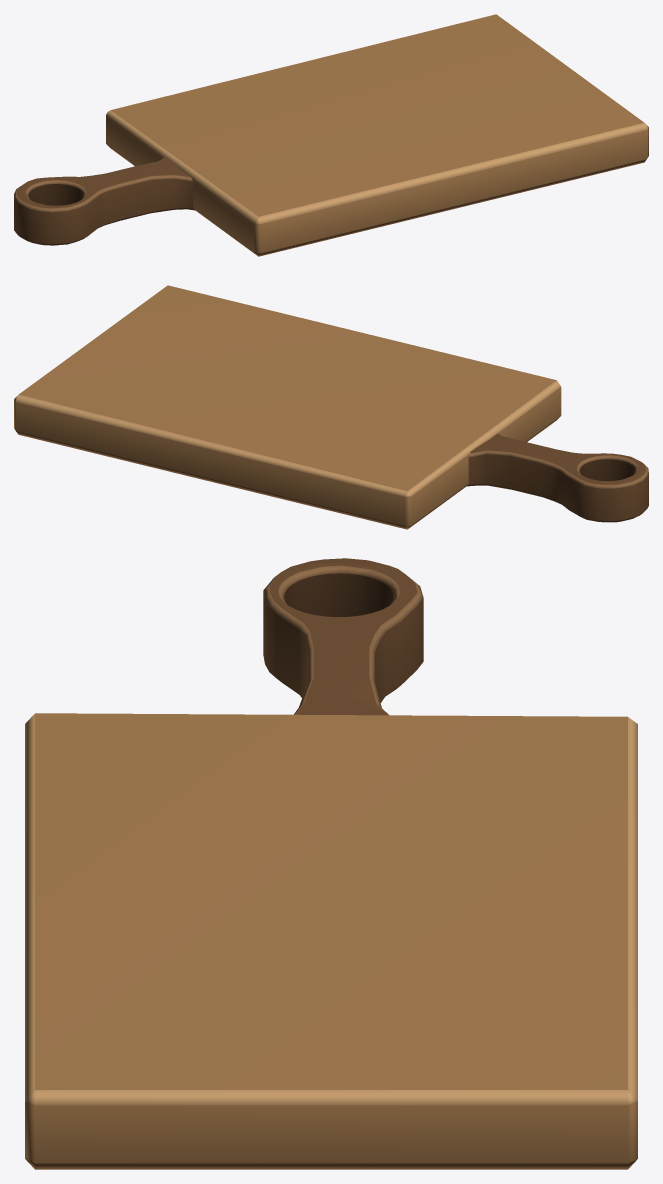
File: UD_SFK_Cutting_Board.fbx
3 views of the same model, one above another, from view 1: azimuth 30°, elevation 25°; view 2: azimuth 150°, elevation 25°; view 3: azimuth 270°, elevation 25° (orthographic). The views are drawn at different scales.
Parts seen in each view (by area): view 1: Cutting Board; view 2: Cutting Board; view 3: Cutting Board.
Boxes of the visible parts, x1,y1,x2,y2 form: Cutting Board: (14, 14, 648, 256); Cutting Board: (14, 285, 648, 529); Cutting Board: (25, 558, 637, 1169).
Size of the model in its own units: 31.43 by 2.16 by 15.08.
